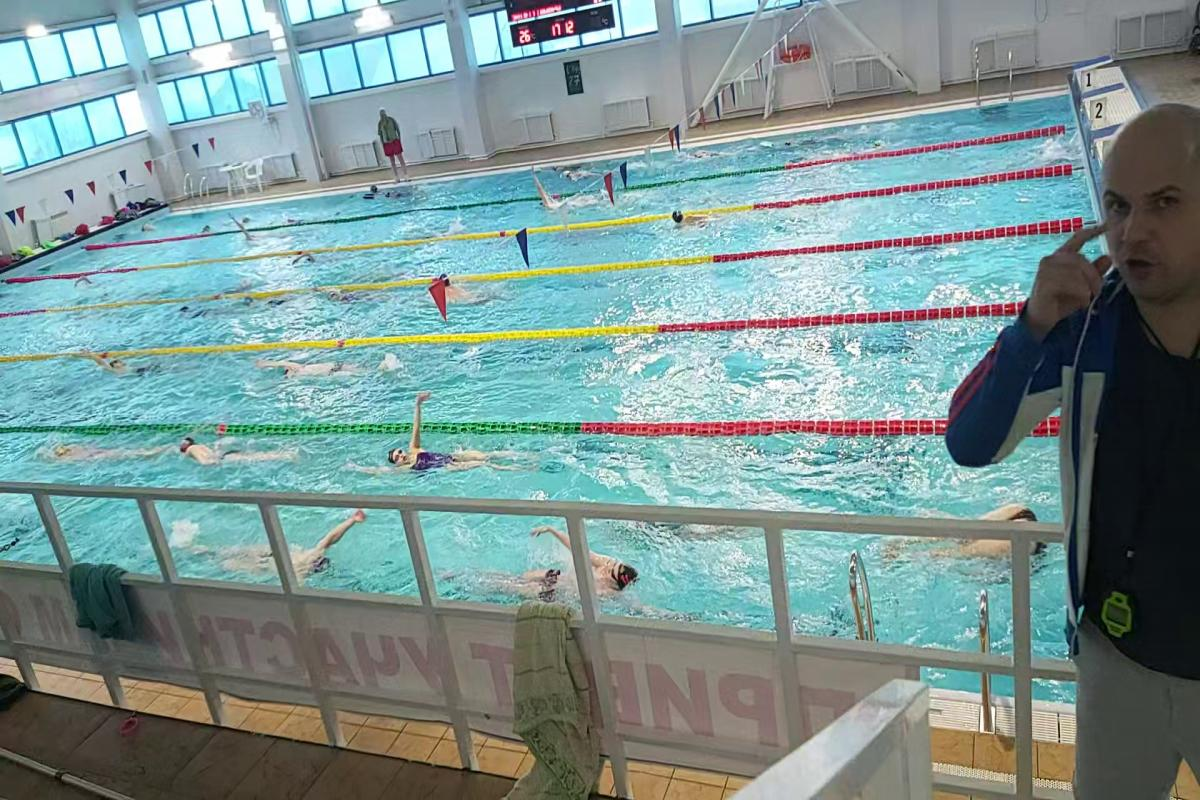swimmer: (464, 522, 662, 606), (354, 400, 518, 480), (183, 517, 380, 579), (913, 497, 1049, 576), (166, 433, 301, 479), (34, 426, 147, 467), (254, 346, 377, 383), (92, 349, 174, 383), (524, 182, 578, 214), (668, 204, 715, 233)
